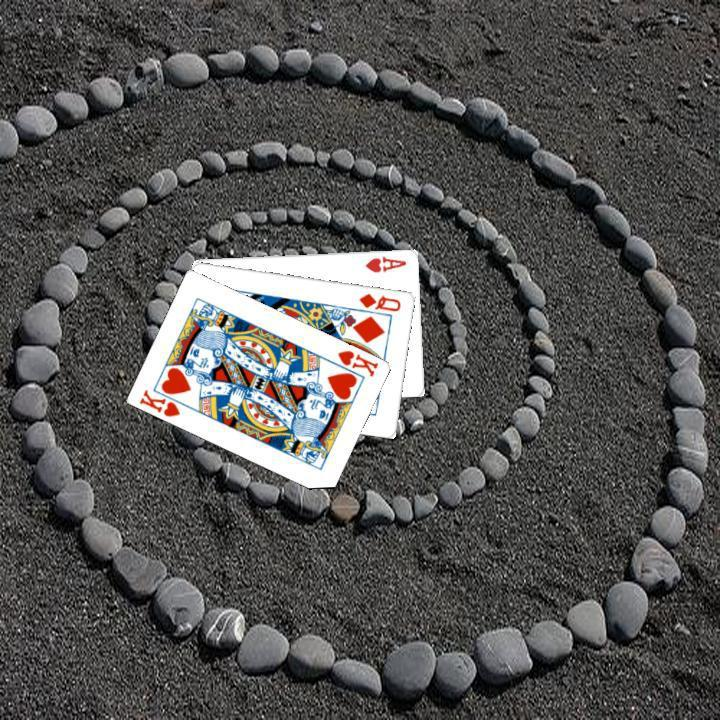A: (361, 252, 408, 274)
K: (333, 346, 381, 379), (136, 385, 182, 419)
Q: (355, 288, 403, 313)
